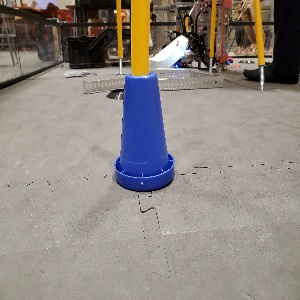Blue_1: (111, 73, 175, 190)
